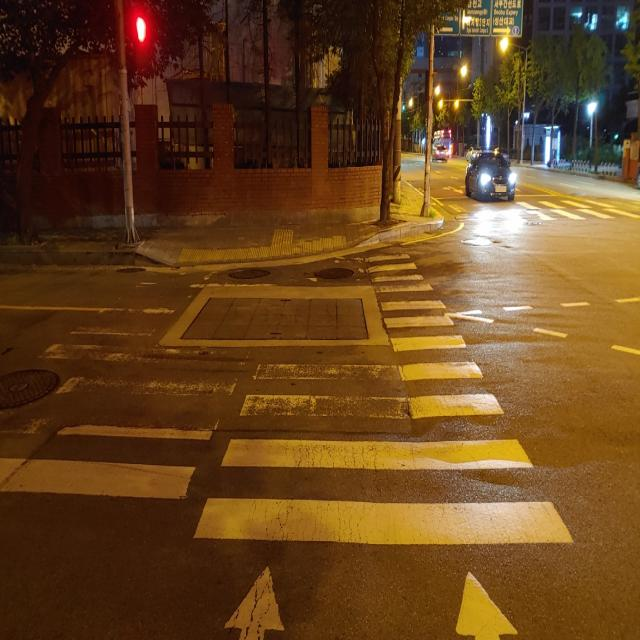빨간불: (130, 3, 154, 69)
횡단보도: (0, 254, 573, 639)
